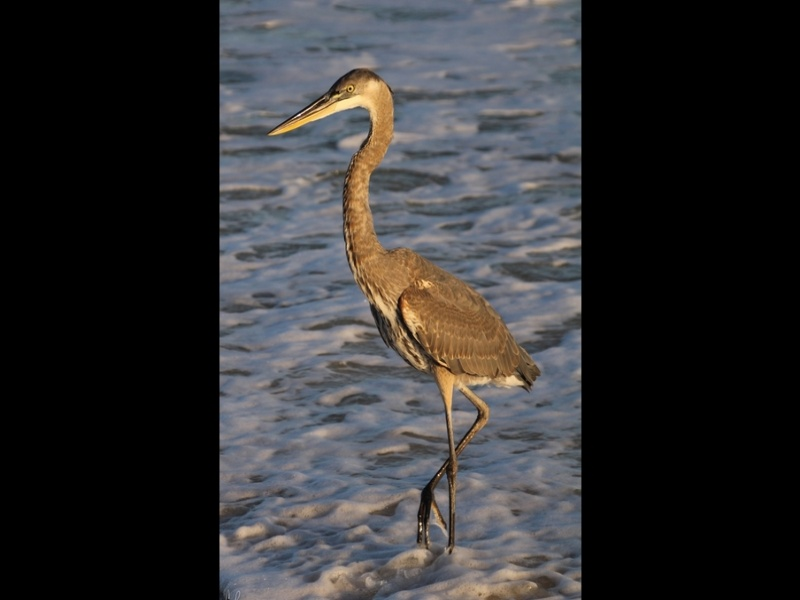heron: (269, 67, 550, 556)
